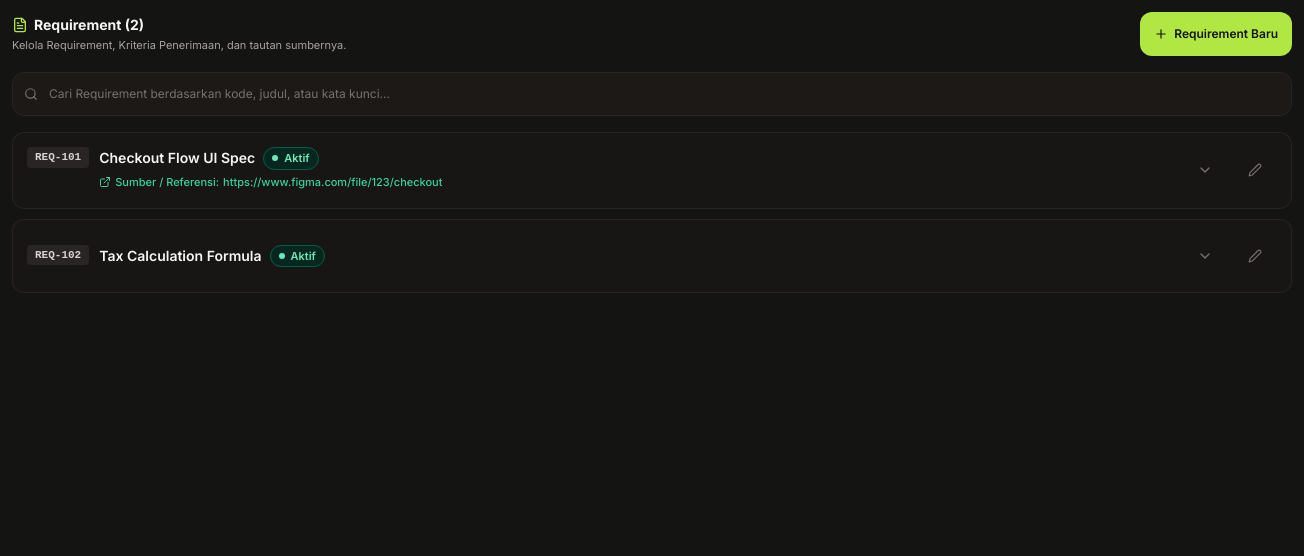
Test: RequirementManager Organism › expands requirement details and loads linked tasks summary
The width and height of the screenshot is (1304, 556).
Expected: the text "Checkout Flow UI Spec" is shown, x1=99 y1=148 x2=255 y2=168
What coordinates should you click on to do the following:
click the button named "Buka detail" in the row of "https://www.figma.com/file/123/checkout"
I would click on:
 (1205, 170)
Its box is x1=1183 y1=148 x2=1227 y2=192.
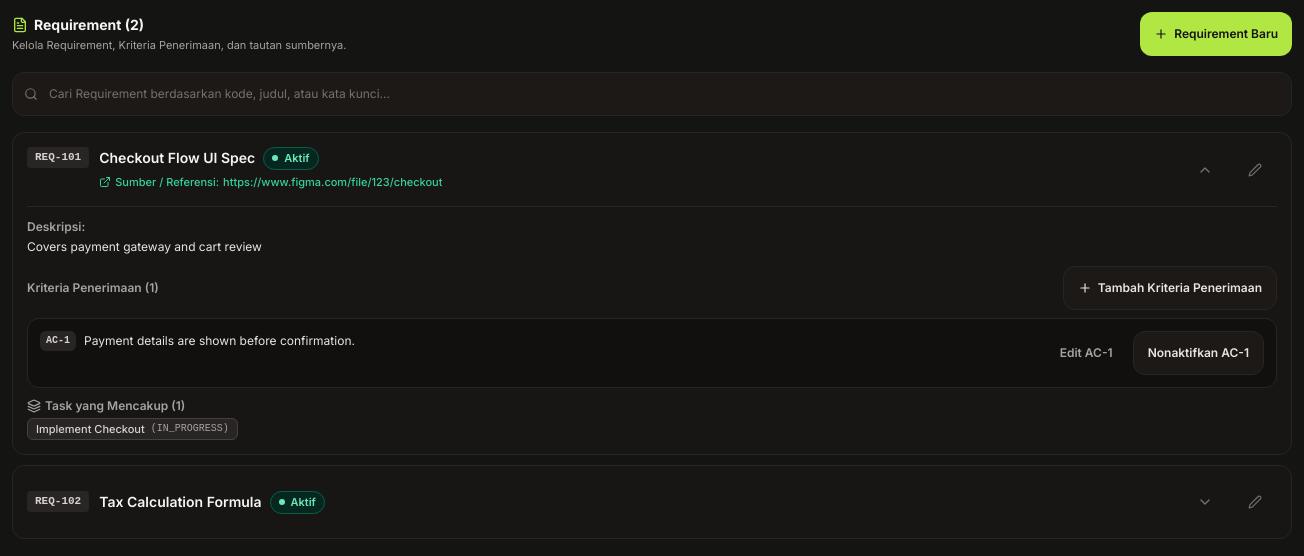
Result: the text "Covers payment gateway and cart review" is shown at x1=27 y1=239 x2=262 y2=254
Result: the text "Implement Checkout" is shown at x1=36 y1=421 x2=145 y2=437
Result: the text "Payment details are shown before confirmation." is shown at x1=84 y1=331 x2=355 y2=351
